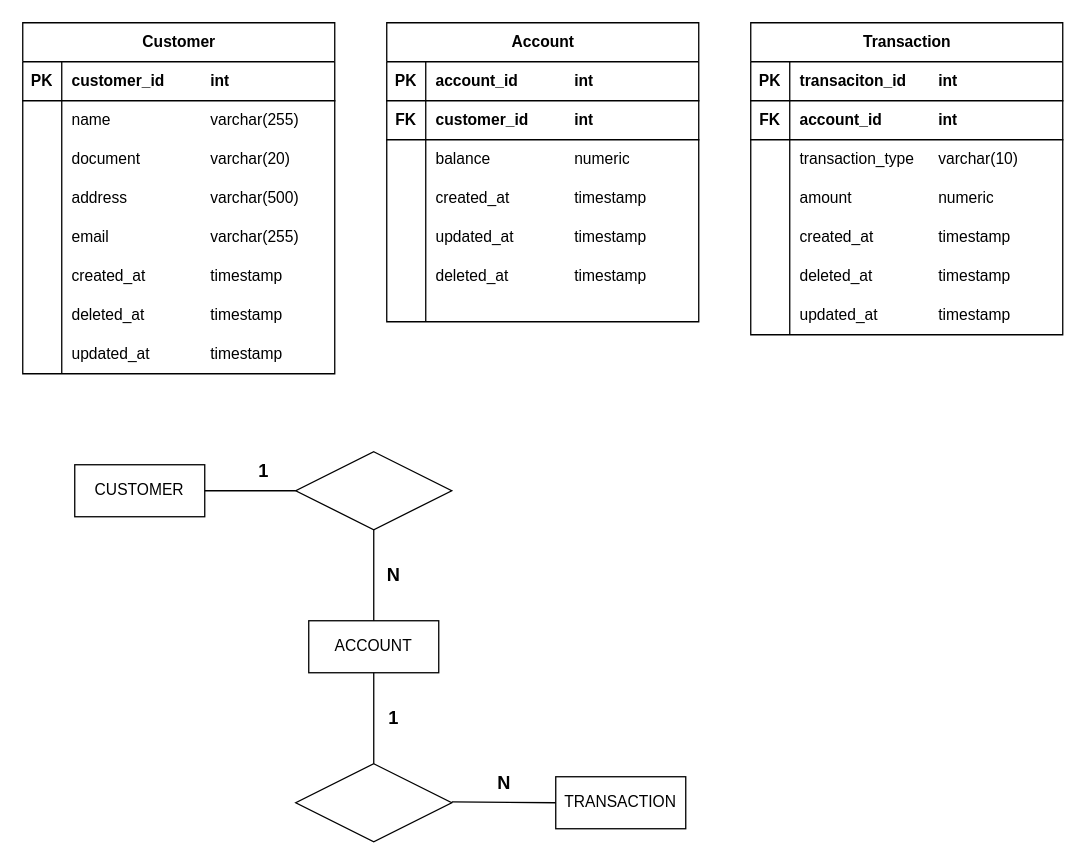
Image size: 1086x864. Some labels were removed from this diagram. Here are the shapes that lost their labels. From the top down, the centre of each, then its label:
point 373,490: owns
point 373,802: associates with
